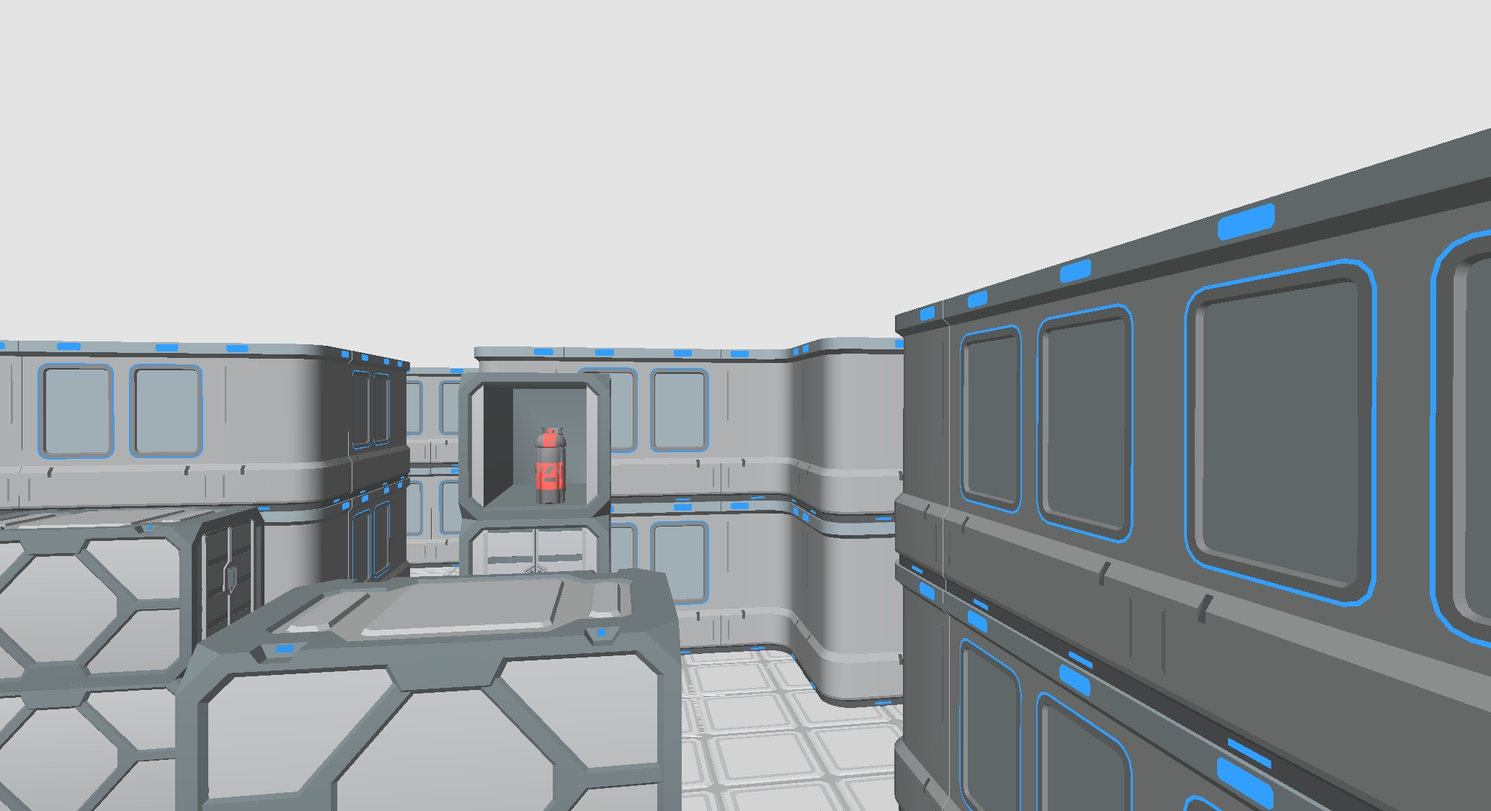red_barrel: (535, 428, 566, 503)
